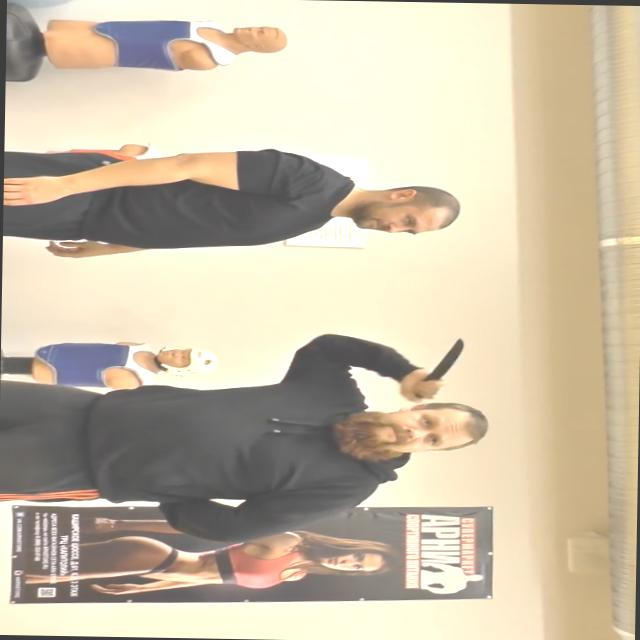knife: (399, 332, 472, 402)
